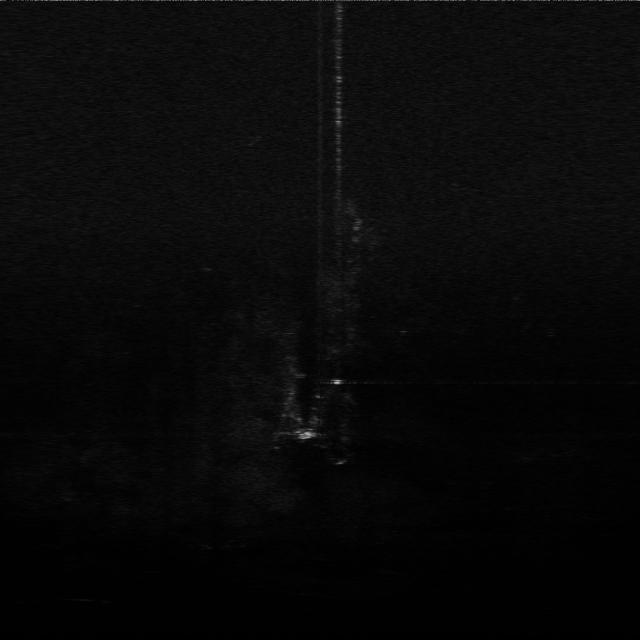rov: (292, 428, 322, 443)
